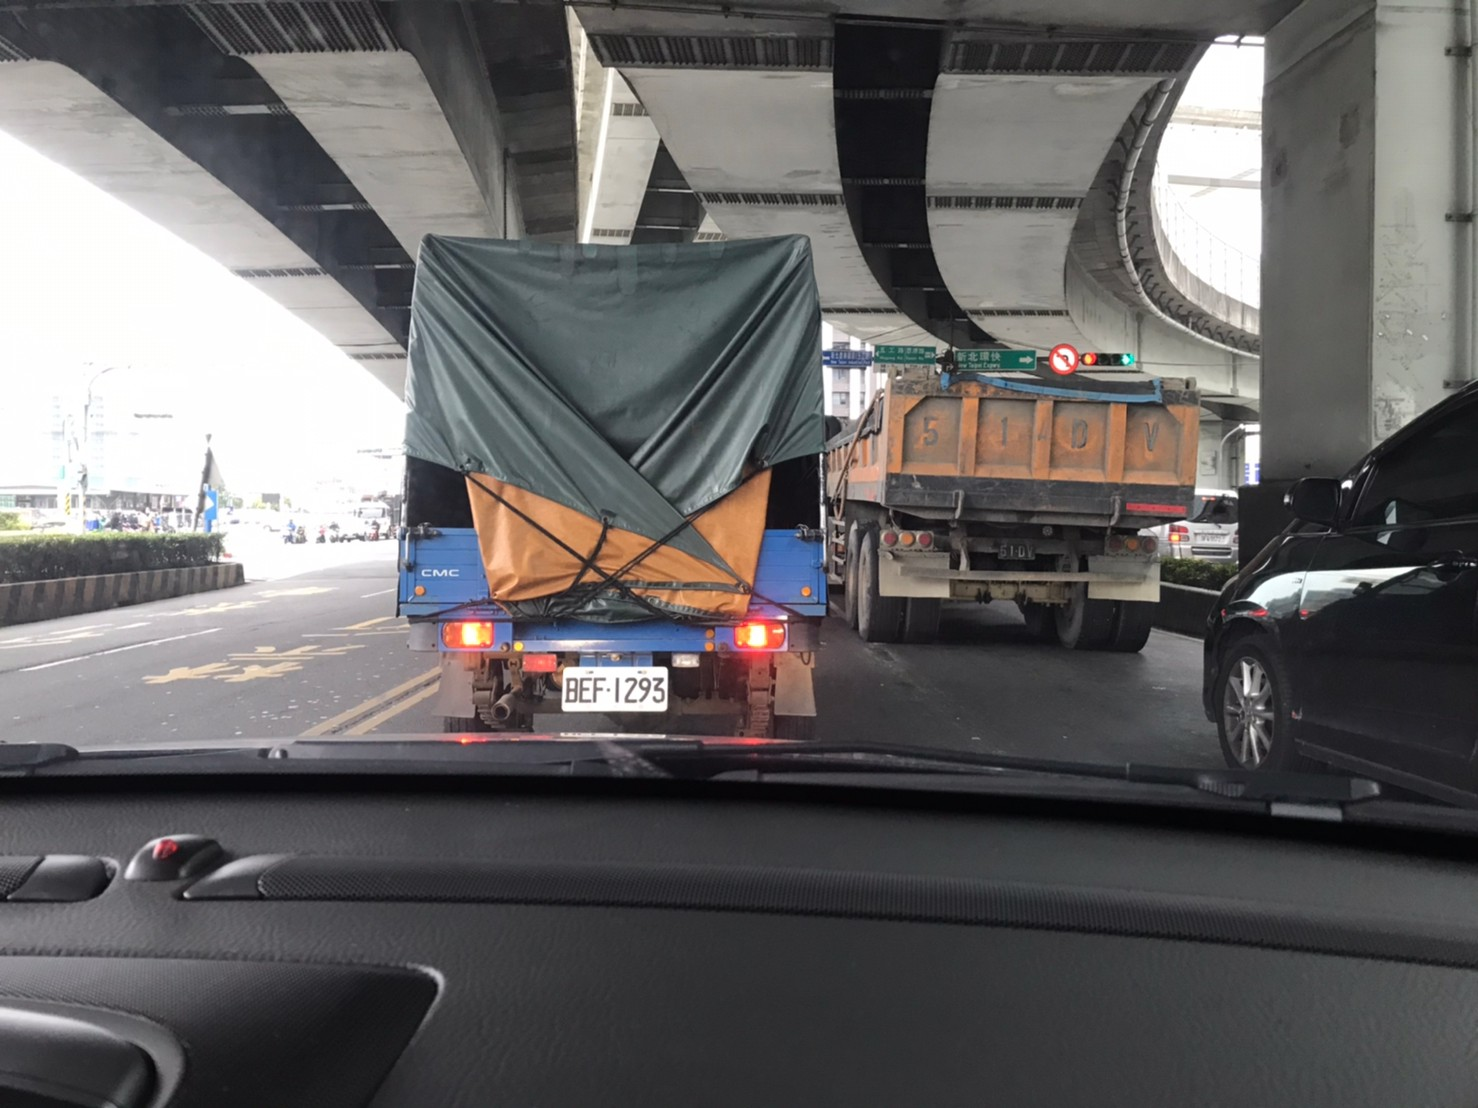LP: (557, 665, 673, 715)
